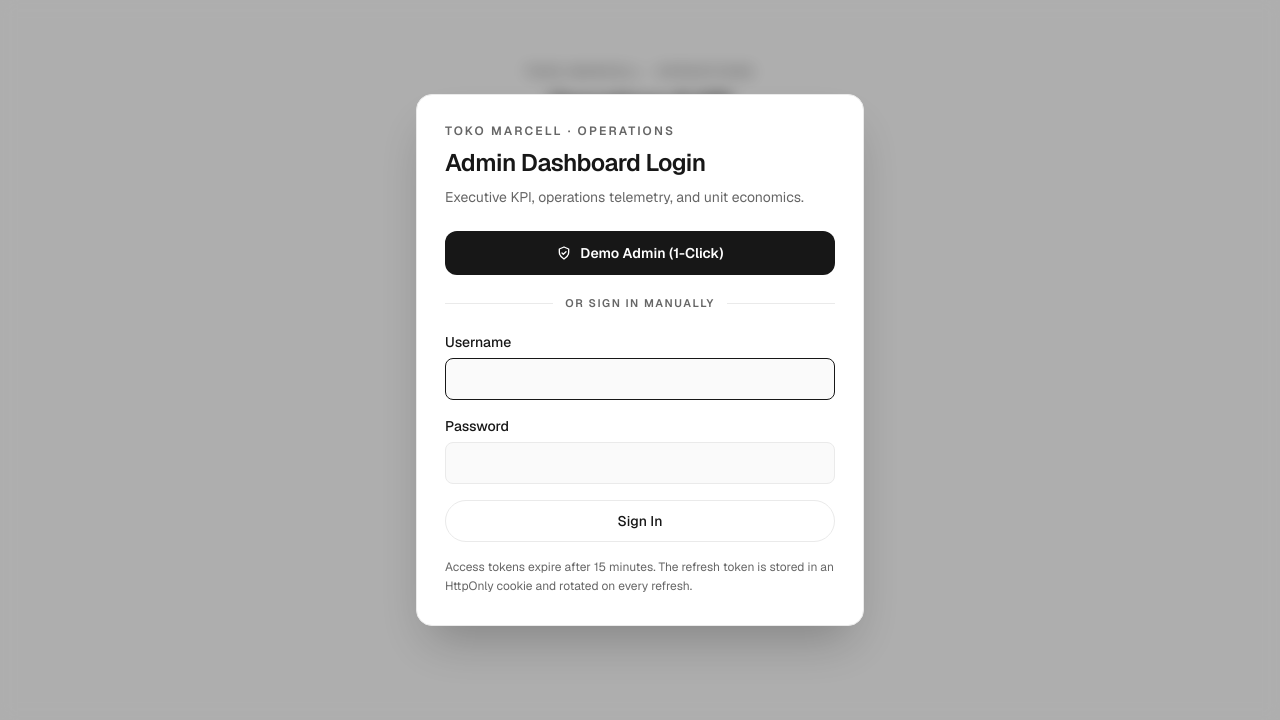
AdminKpiPage › returns to the login gate when the admin API reports 401
The image size is (1280, 720).
Step 1. Click the button "Demo Admin (1-Click)" → (640, 253), box [445, 231, 835, 275]
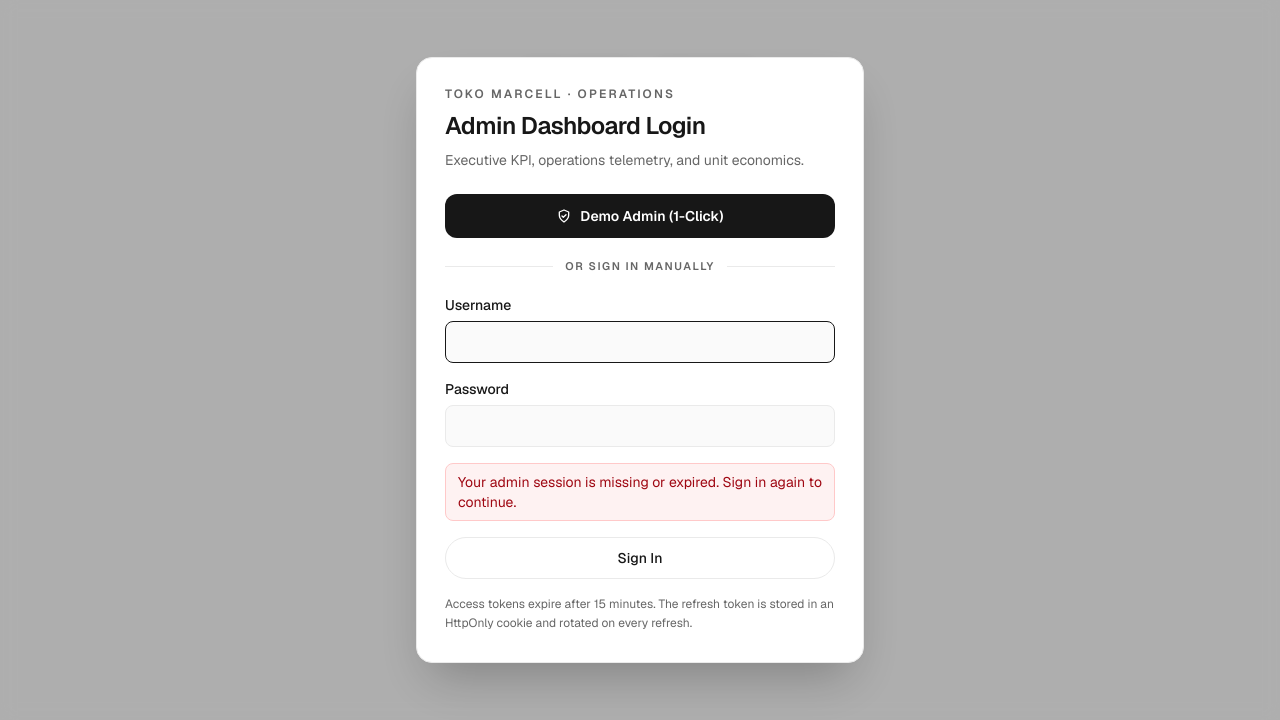
Expected: the heading "Admin Dashboard Login" is shown, [445, 110, 706, 142]
Expected: the message shows "session", [458, 473, 822, 511]
